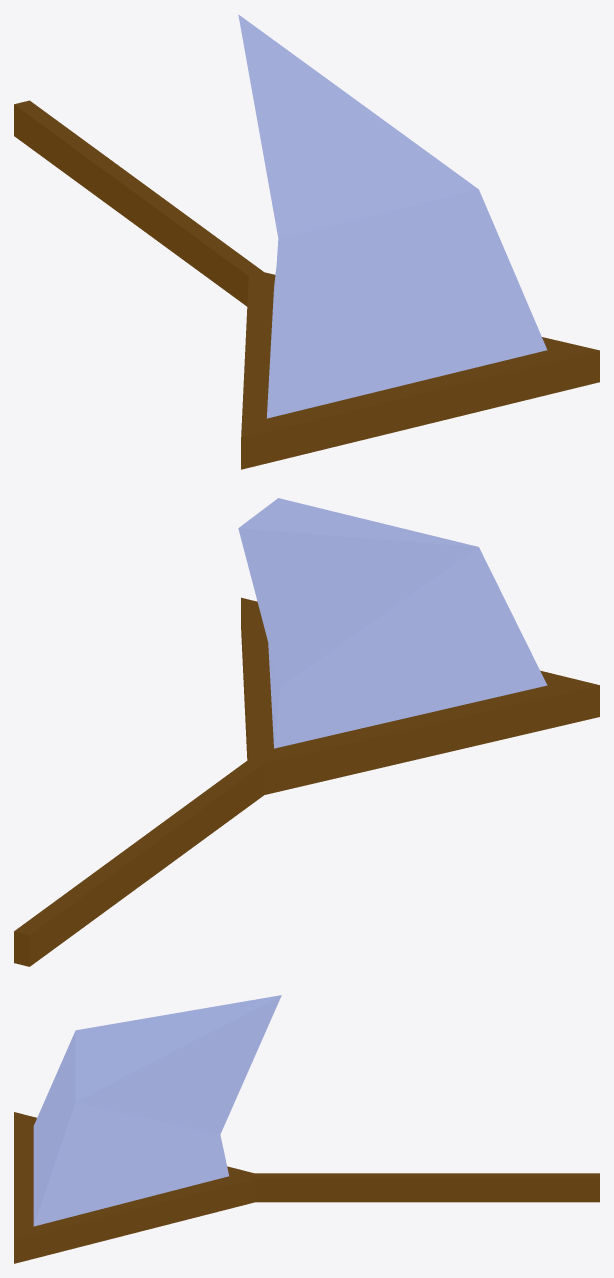
Rendered from bugnet.glb.
3 views of the same model, one above another, from view 1: azimuth 30°, elevation 25°; view 2: azimuth 150°, elevation 25°; view 3: azimuth 270°, elevation 25° (orthographic). The views are drawn at different scales.
Visible parts, largest first — view 1: Bugnet; view 2: Bugnet; view 3: Bugnet.
Part boxes in pixels (box(x1,y1,x2,y2)): Bugnet: box(14, 14, 599, 469); Bugnet: box(14, 498, 599, 966); Bugnet: box(14, 995, 599, 1263).
Bounding box in the file's own units: 1.23 × 0.9118 × 2.37.
